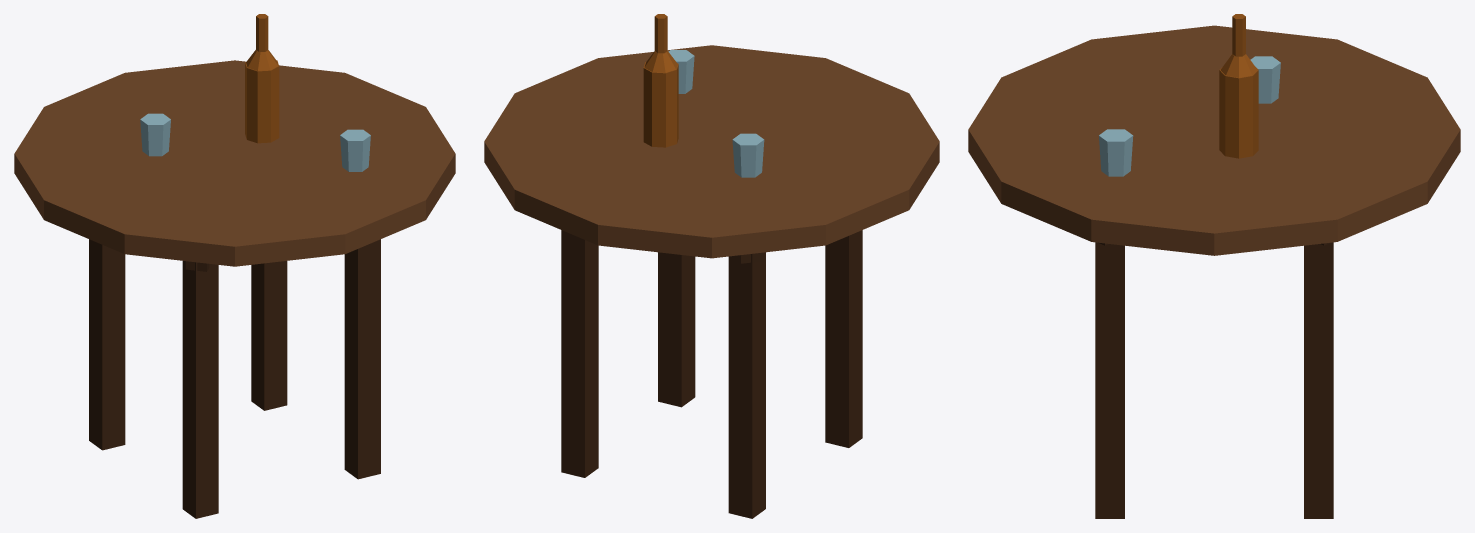
File: SM_Saloon_Table.obj
The picture shows the model from 3 angles, left to right: view 1: azimuth 30°, elevation 25°; view 2: azimuth 150°, elevation 25°; view 3: azimuth 270°, elevation 25°; orthographic projection. The views are drawn at different scales.
Visible parts, largest first — view 1: SM_Saloon_Table; view 2: SM_Saloon_Table; view 3: SM_Saloon_Table.
Boxes of the visible parts, <box> form: SM_Saloon_Table: <box>14,14,455,518</box>; SM_Saloon_Table: <box>484,14,939,518</box>; SM_Saloon_Table: <box>968,14,1460,518</box>.
Bounding box in the file's own units: 1 × 1.06 × 1.
